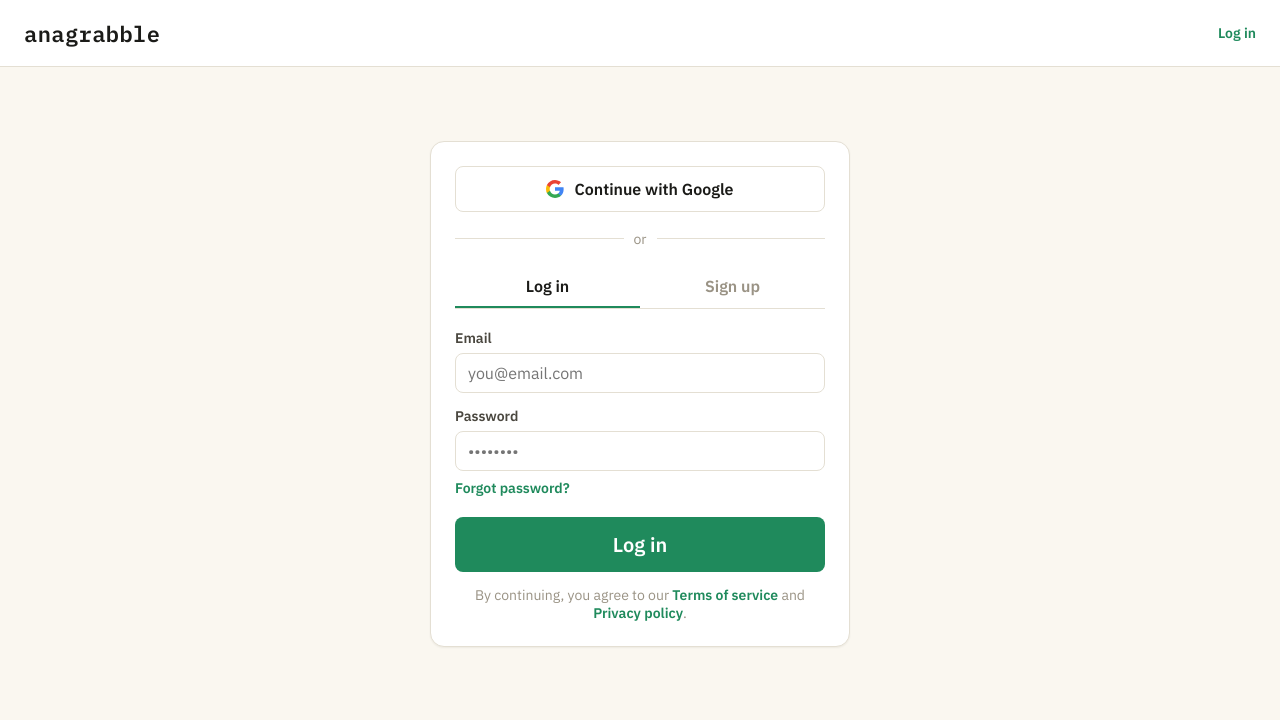
Test: LoginPage › shows the Clerk error message when login fails
This screenshot has width=1280, height=720.
Type "alex@example.com" into the field labelled "Email".
click(640, 372); type("alex@example.com")  # box [455, 352, 825, 392]
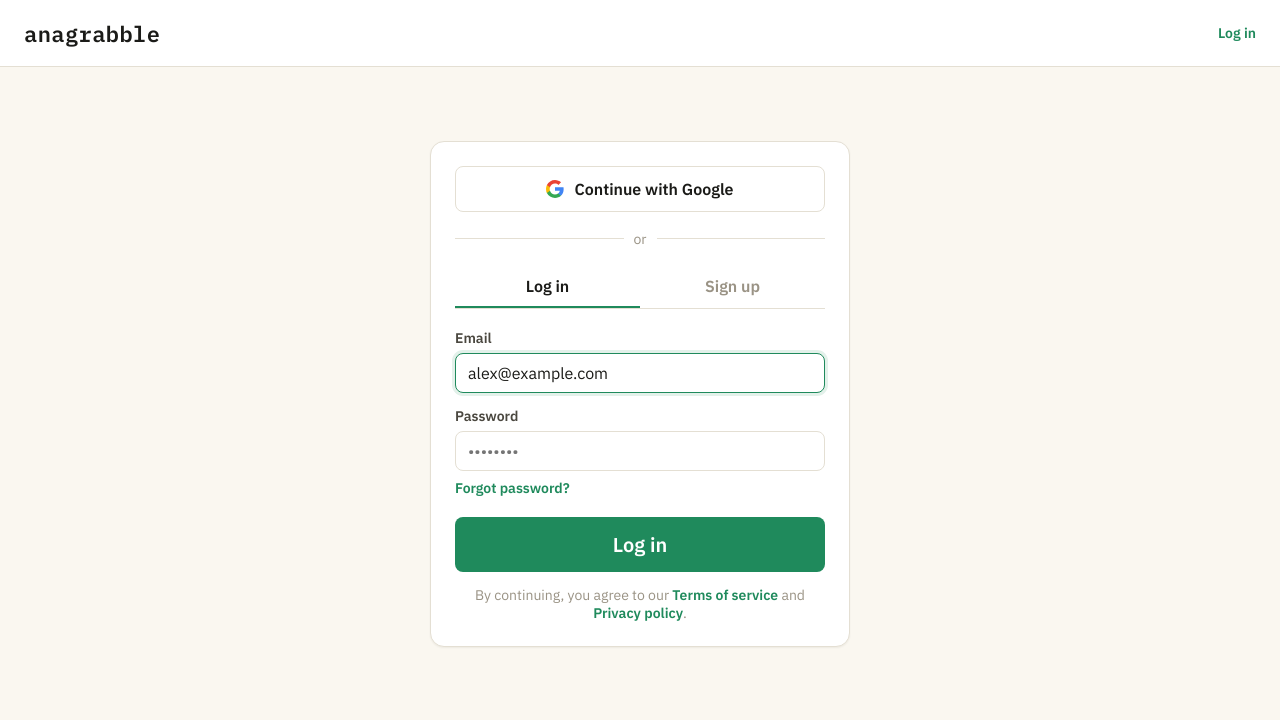
Type "wrong" into the password field labelled "Password".
click(640, 450); type("wrong")  # box [455, 430, 825, 470]
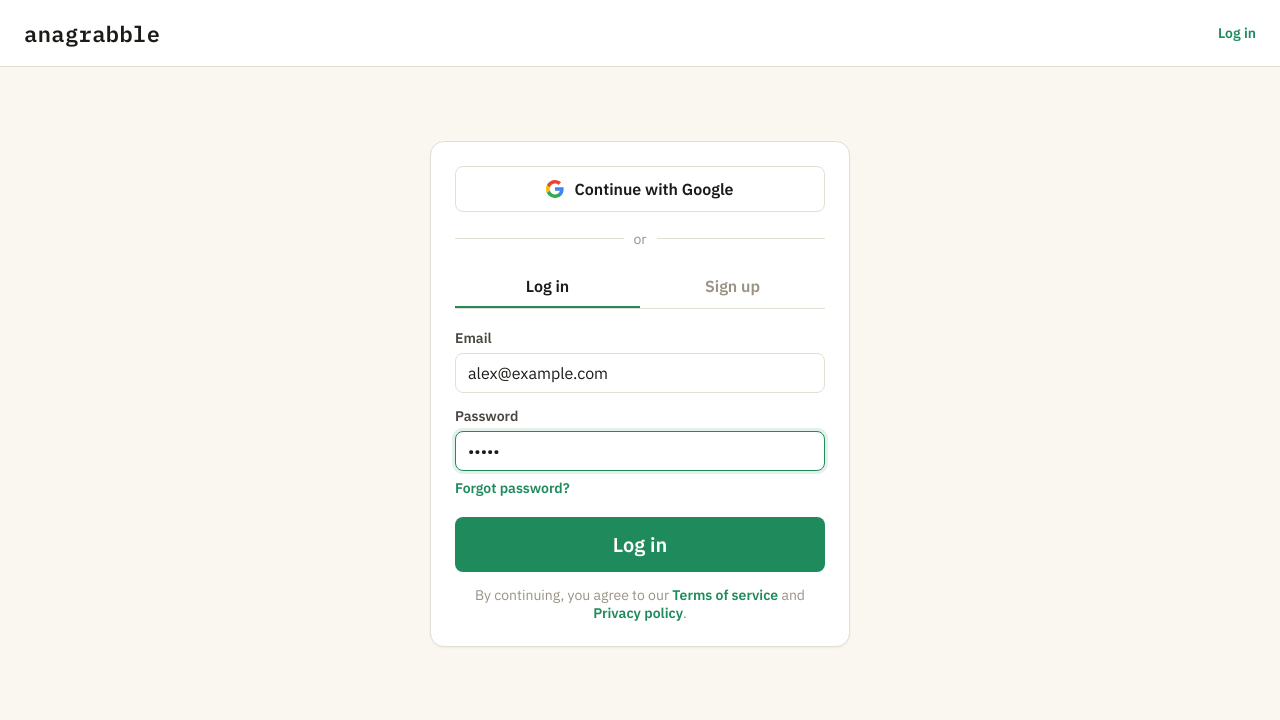
Click the button "Log in".
click(640, 544)  # box [455, 516, 825, 572]
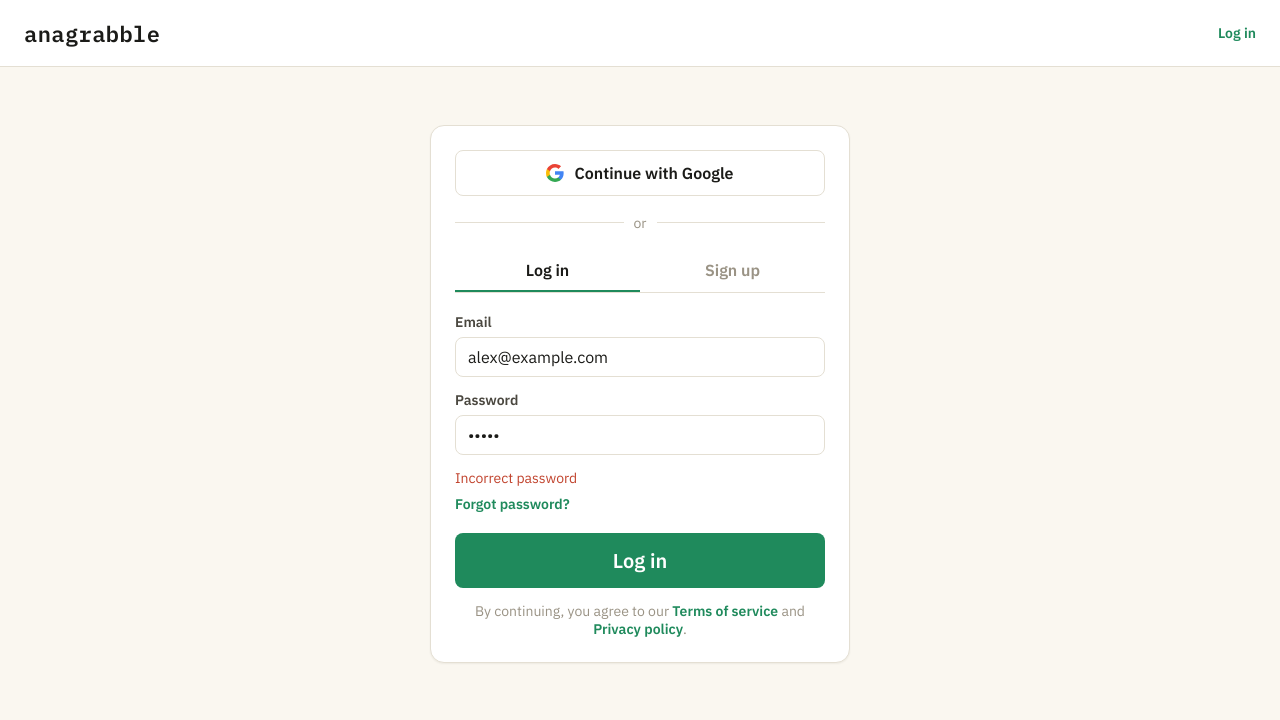
expect the text "Incorrect password" is shown: met, box [455, 468, 577, 486]
